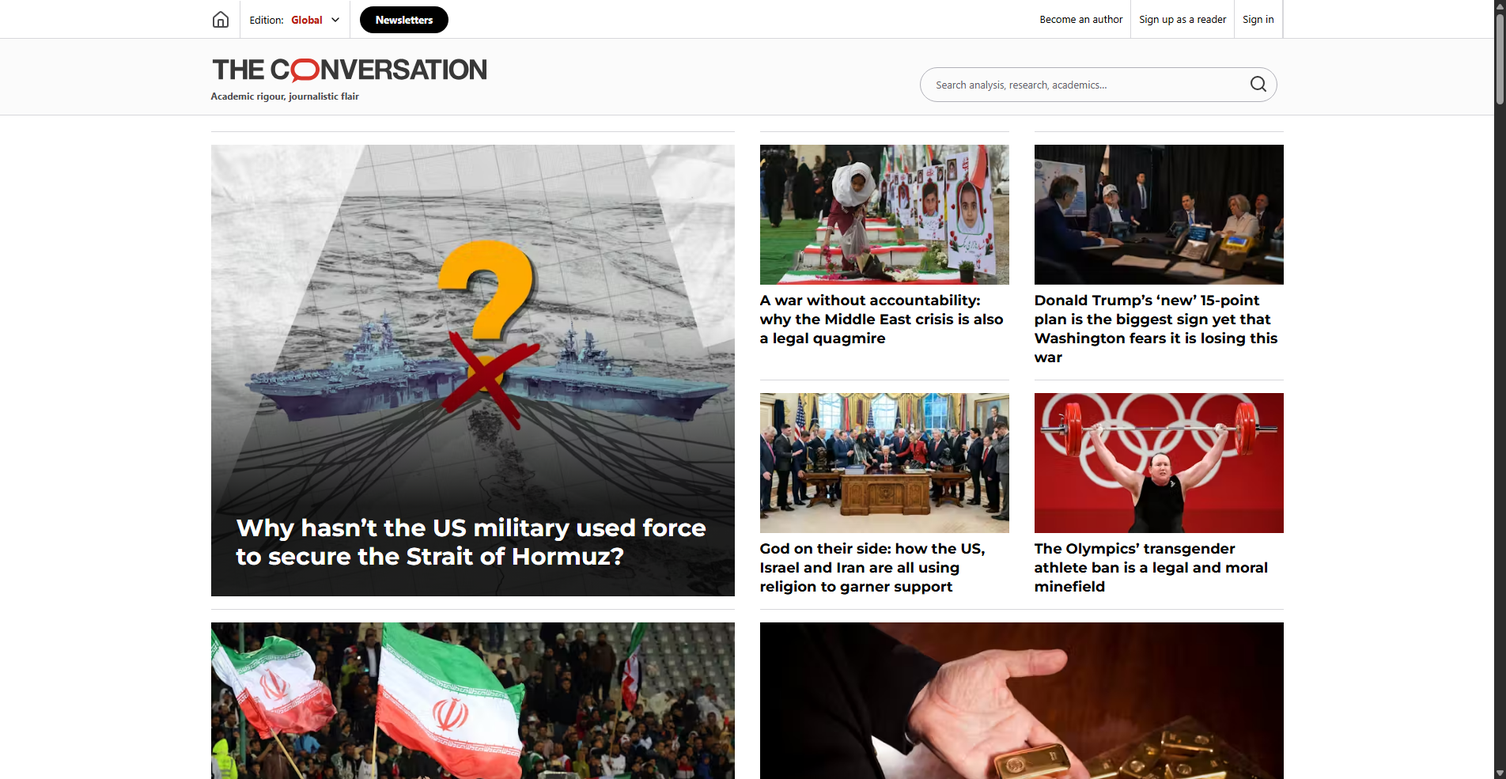button: (283, 1, 349, 39), (1245, 74, 1271, 93)
input: (920, 67, 1277, 102)
link: (211, 145, 734, 597), (211, 623, 734, 779), (760, 623, 1283, 779), (760, 145, 1009, 367), (1034, 145, 1283, 367), (760, 393, 1009, 597), (1034, 393, 1283, 597), (211, 55, 488, 86), (1131, 0, 1235, 38), (1032, 0, 1131, 38), (360, 6, 448, 33), (1235, 0, 1283, 38), (201, 1, 239, 39)
